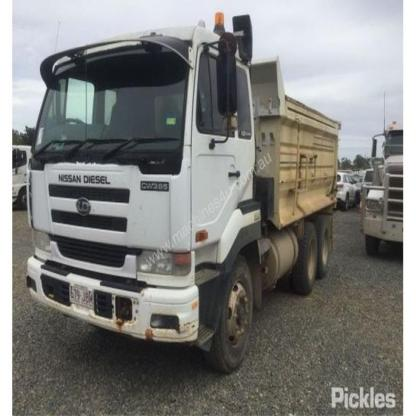dump_truck: (22, 10, 345, 376)
